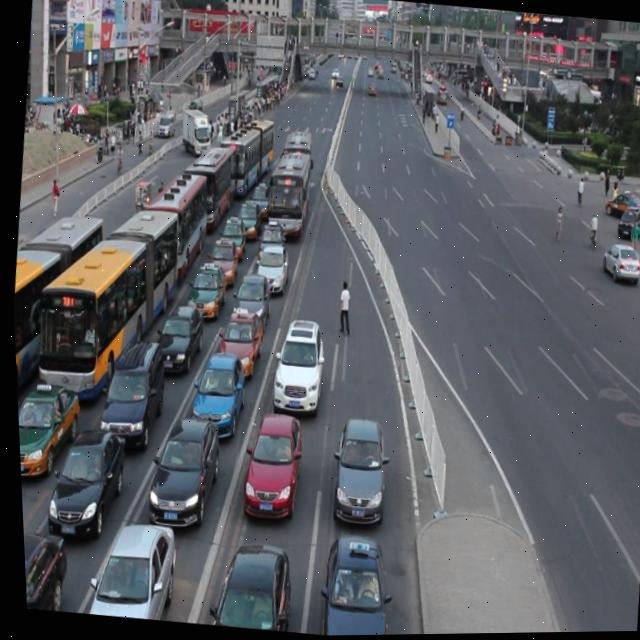bus: (176, 106, 212, 157)
car: (38, 429, 124, 542), (139, 420, 220, 535), (81, 523, 174, 622), (308, 535, 389, 637), (92, 342, 165, 454), (200, 543, 288, 633), (233, 416, 302, 523), (321, 422, 388, 528), (13, 381, 79, 482), (264, 323, 325, 420), (185, 356, 245, 442), (151, 308, 203, 379), (212, 312, 262, 382), (19, 533, 63, 612), (227, 276, 270, 339), (181, 265, 225, 323), (596, 243, 639, 284), (250, 250, 287, 297), (203, 243, 238, 289), (599, 185, 640, 223), (213, 217, 245, 261), (254, 223, 284, 265), (230, 202, 260, 243), (612, 206, 640, 245), (244, 185, 270, 223)
van: (13, 202, 184, 412), (7, 208, 111, 417), (130, 170, 212, 288), (211, 118, 276, 203), (175, 147, 236, 235), (262, 154, 312, 241), (275, 134, 314, 201)
